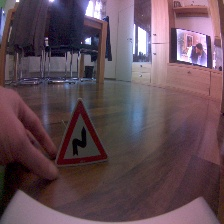vorsicht: (54, 95, 110, 168)
